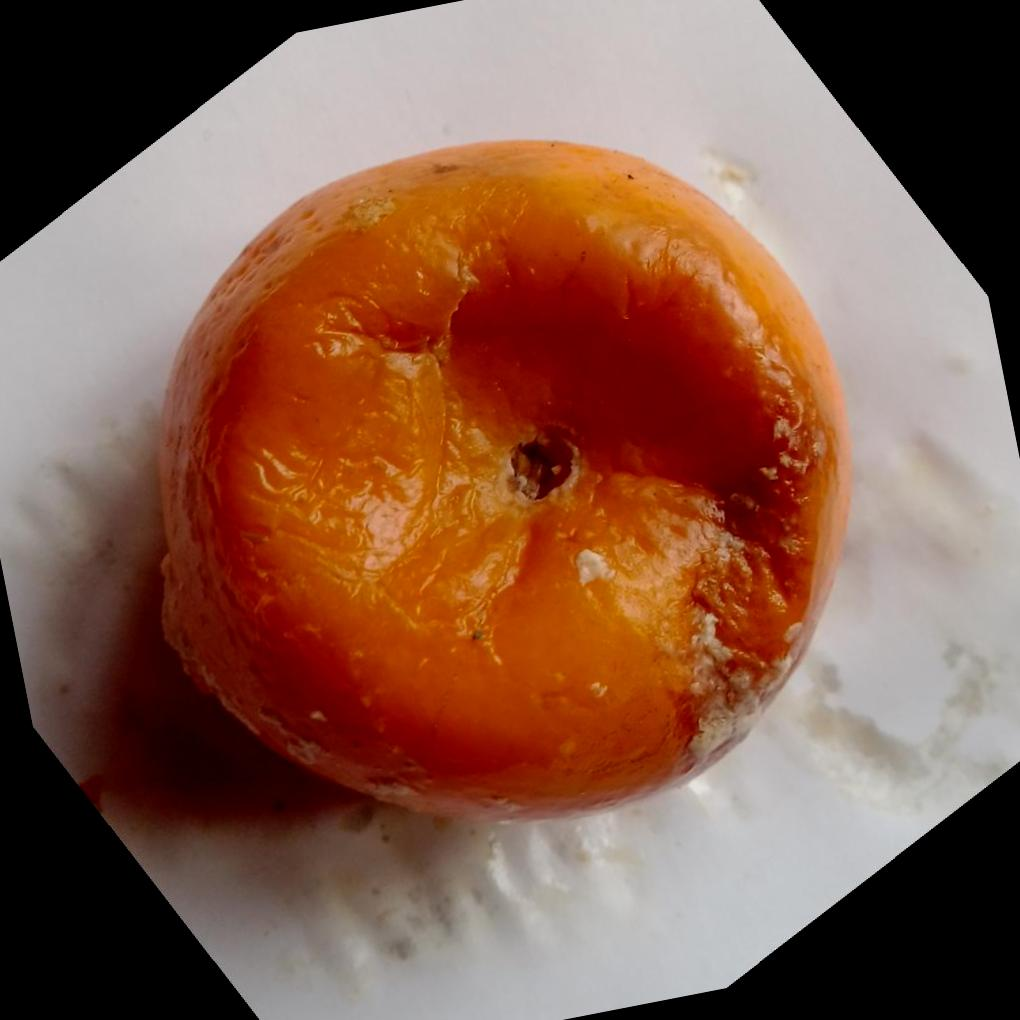FreshOrange: (155, 138, 851, 829)
